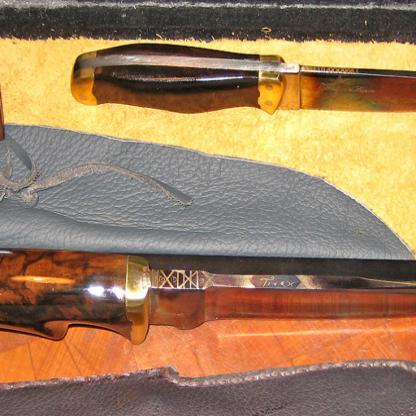knife: (0, 248, 415, 346), (74, 45, 415, 119)
